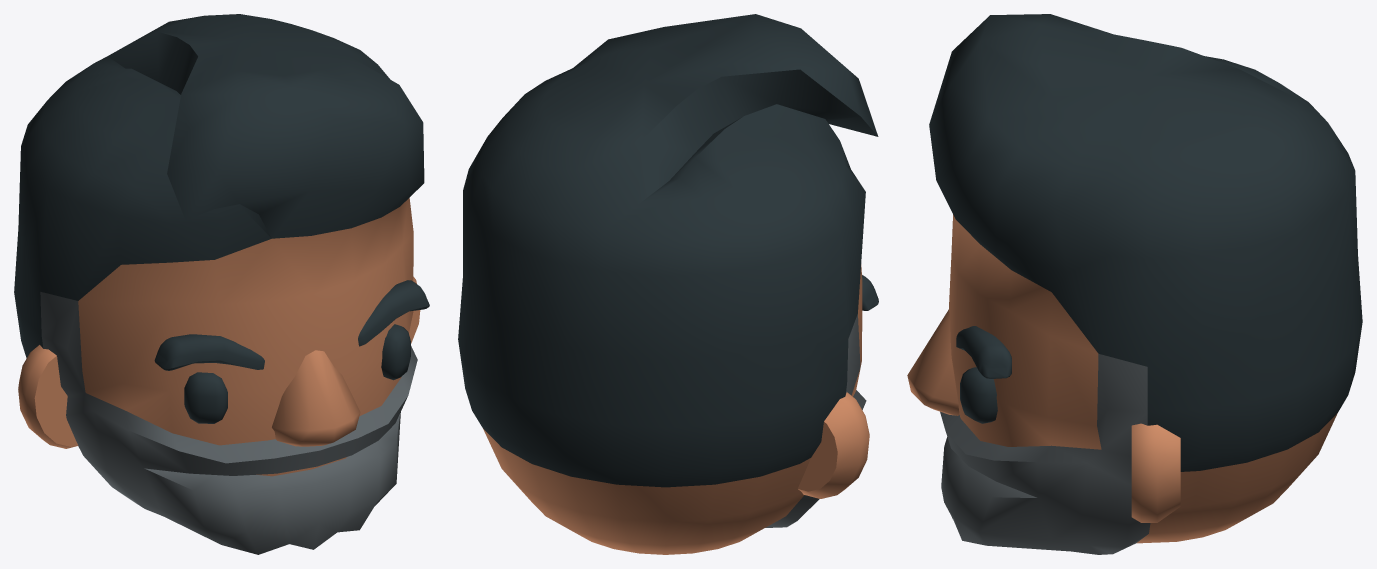
The model's file is character_spaceSoldierHeadB.gltf.glb.
3 renders of one model, left to right at view 1: azimuth 30°, elevation 25°; view 2: azimuth 150°, elevation 25°; view 3: azimuth 270°, elevation 25°, orthographic. The views are drawn at different scales.
Visible parts, largest first — view 1: character_spaceSoldierHeadB; view 2: character_spaceSoldierHeadB; view 3: character_spaceSoldierHeadB.
Boxes of the visible parts, box(x1,y1,x2,y2) form: character_spaceSoldierHeadB: box(14, 14, 429, 554); character_spaceSoldierHeadB: box(458, 14, 878, 554); character_spaceSoldierHeadB: box(907, 14, 1362, 554).
Size of the model in its own units: 1.18 by 1.3 by 1.13.
